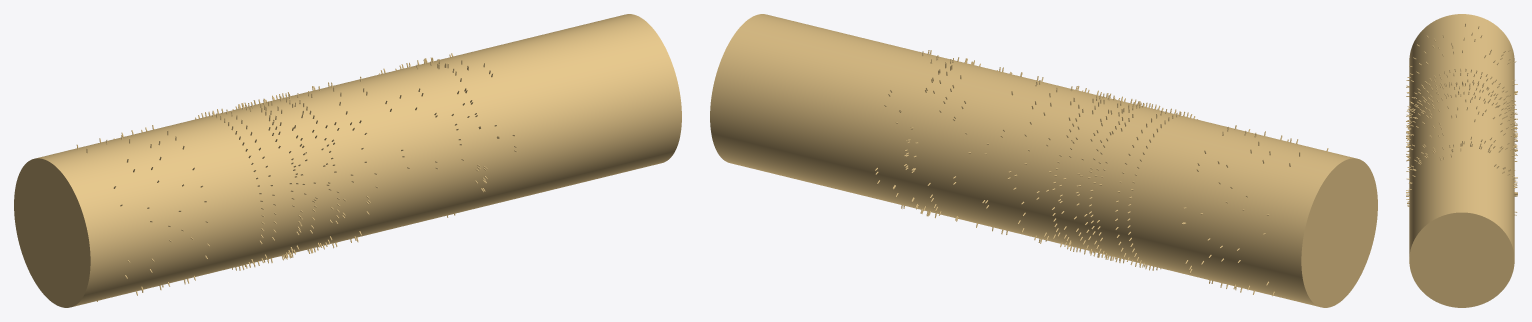
The model's file is Strauss-Viennese-waltzes.glb.
3 views of the same model, side by side, from view 1: azimuth 30°, elevation 25°; view 2: azimuth 150°, elevation 25°; view 3: azimuth 270°, elevation 25° (orthographic). The views are drawn at different scales.
Visible parts, largest first — view 1: cylinder_body; view 2: cylinder_body; view 3: cylinder_body.
Part boxes in pixels (left/top/right/bottom): cylinder_body: left=14, top=14, right=681, bottom=307; cylinder_body: left=710, top=14, right=1377, bottom=307; cylinder_body: left=1409, top=14, right=1514, bottom=307.
Size of the model in its own units: 0.214 by 0.051 by 0.051.
